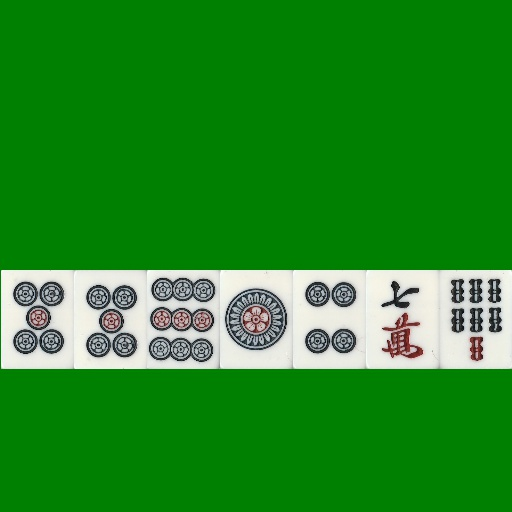1p: (220, 270, 293, 369)
4p: (293, 270, 366, 369)
5p: (1, 270, 74, 369), (74, 270, 147, 369)
7m: (366, 270, 439, 369)
7s: (439, 270, 512, 369)
9p: (147, 270, 220, 369)
